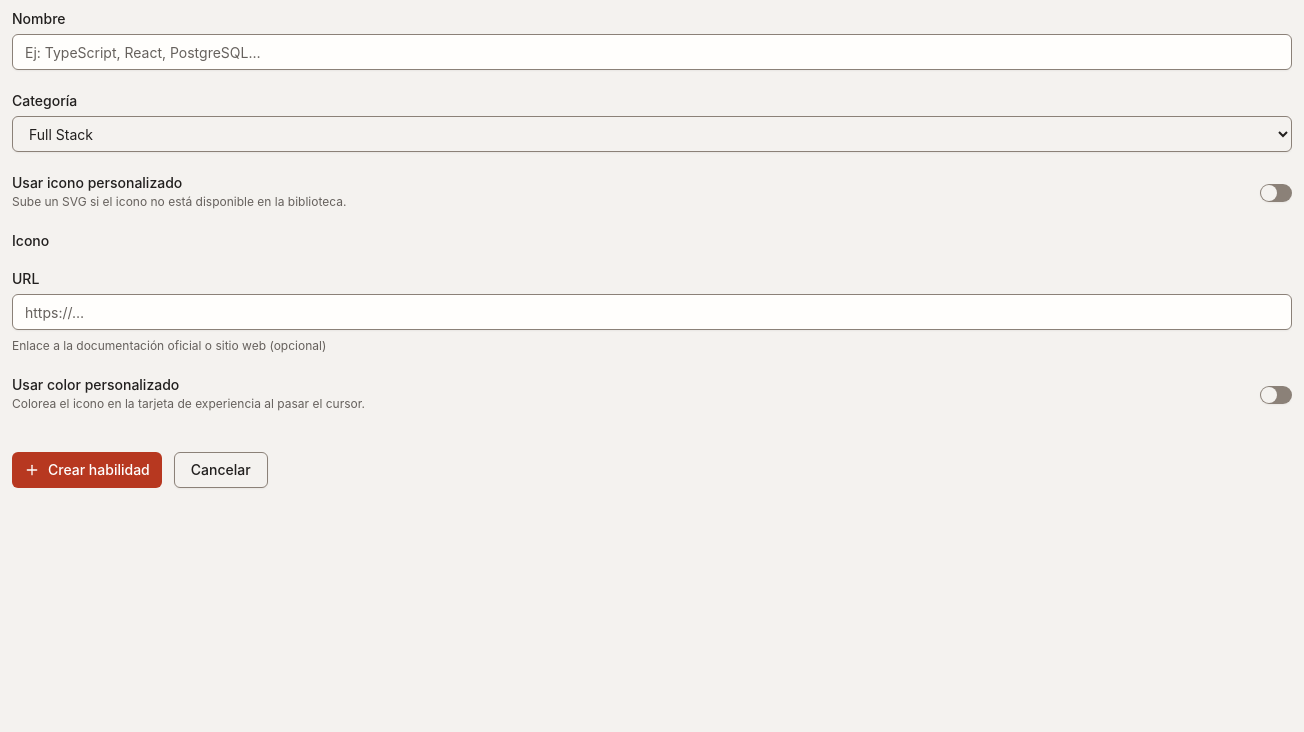
Test: SkillForm color control › reveals the picker with its default HEX when switched on
Click the switch named "Usar color personalizado" in the row of "Usar color personalizado" at (1276,395), box [1260, 386, 1292, 404]
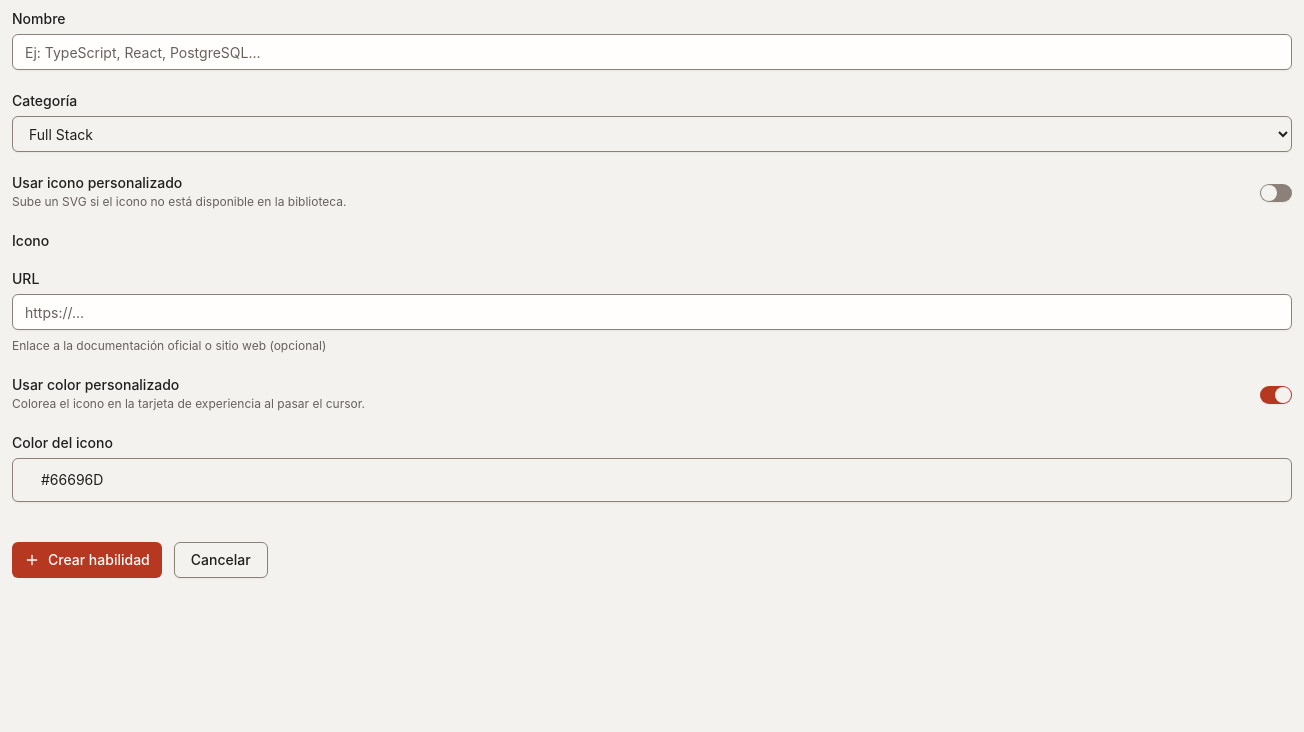
Click the switch named "Usar color personalizado" in the row of "Usar color personalizado" at (1276,395), box [1260, 386, 1292, 404]
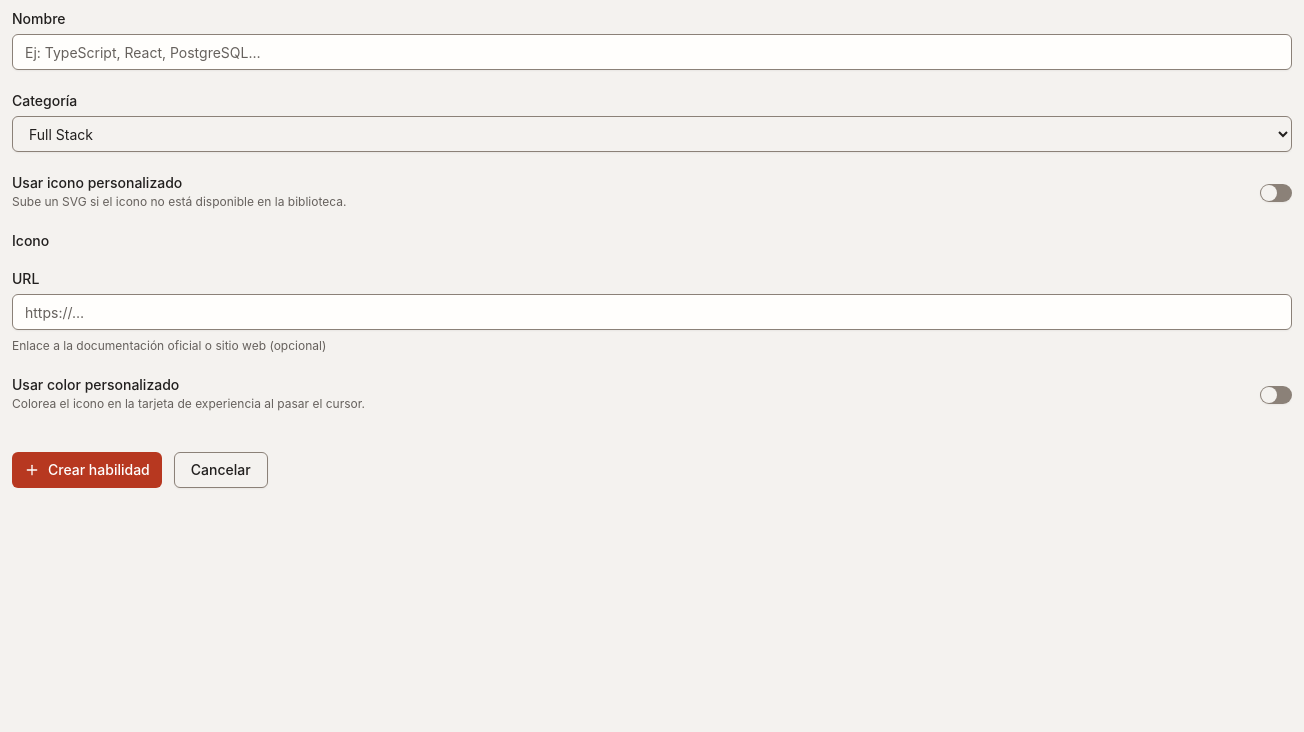
Check: the label named "customColor" is gone
